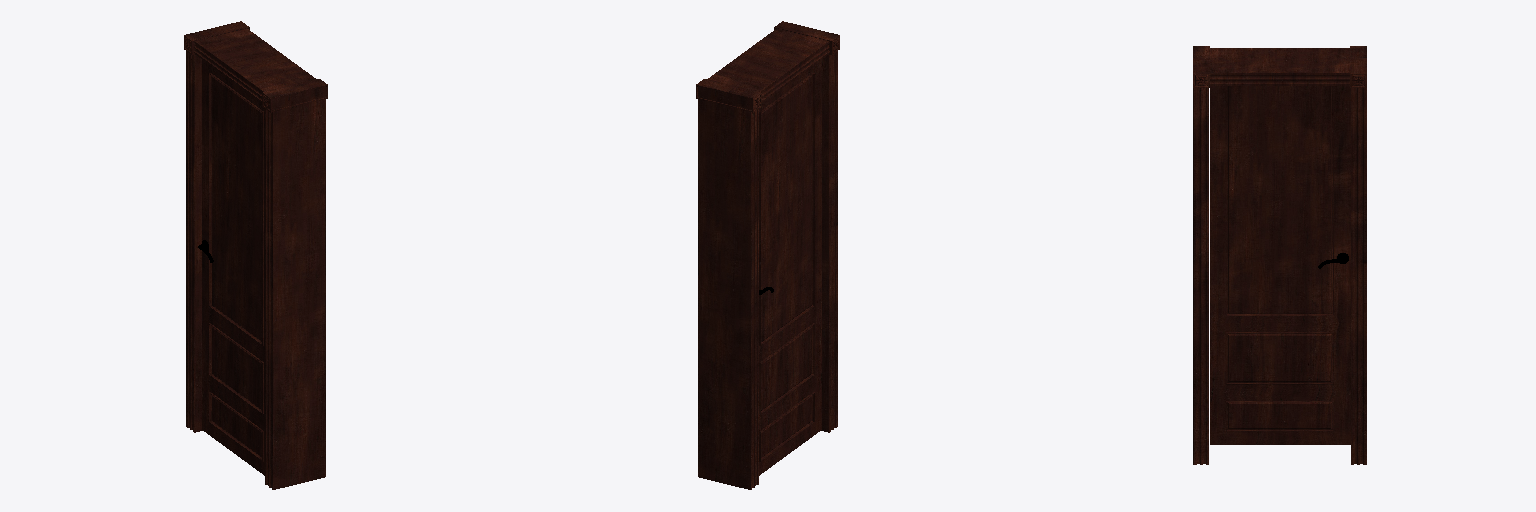
3 views of the same model, side by side, from view 1: azimuth 30°, elevation 25°; view 2: azimuth 150°, elevation 25°; view 3: azimuth 270°, elevation 25° (orthographic).
Visible parts, largest first — view 1: Object_RenderStuff_Full-closed_door_wood.jpg; view 2: Object_RenderStuff_Full-closed_door_wood.jpg; view 3: Object_RenderStuff_Full-closed_door_wood.jpg.
Boxes of the visible parts, box(x1,y1,x2,y2) form: Object_RenderStuff_Full-closed_door_wood.jpg: box(184, 21, 327, 489); Object_RenderStuff_Full-closed_door_wood.jpg: box(696, 21, 839, 489); Object_RenderStuff_Full-closed_door_wood.jpg: box(1193, 46, 1366, 464).
Bounding box in the file's own units: 0.3869 × 2.5 × 1.
Materials: 3 (1 with a texture image).